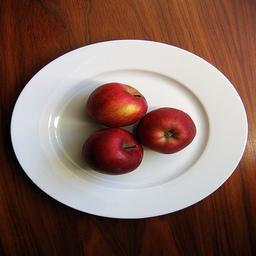apple: (81, 126, 143, 176), (87, 82, 148, 129), (138, 107, 197, 154)
